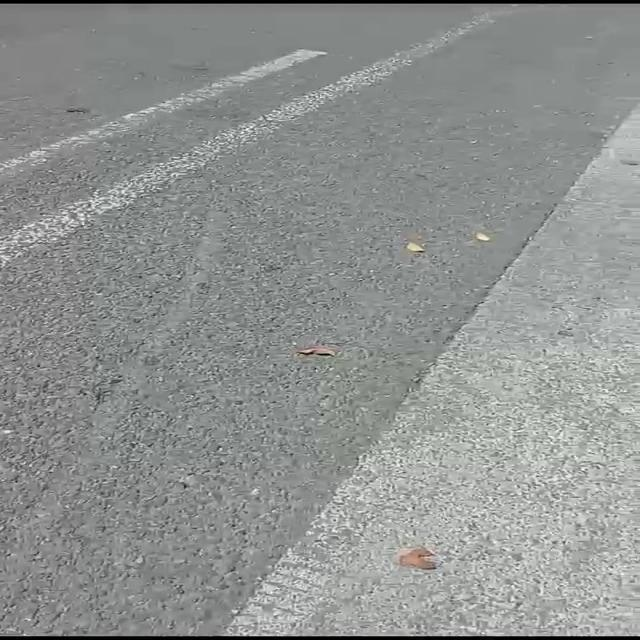Sambungan: (225, 96, 640, 640)
